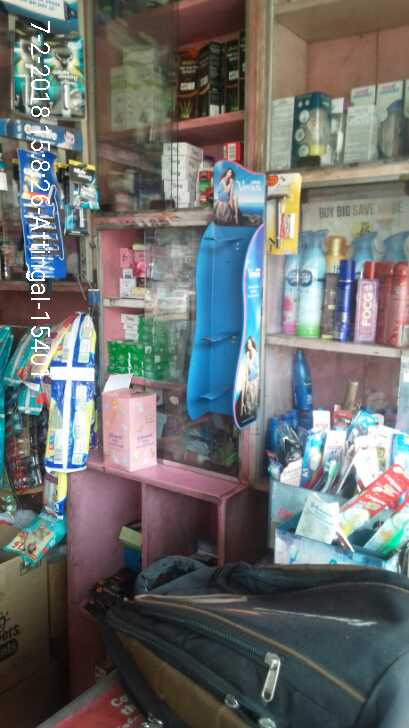beauty: (51, 31, 92, 117), (65, 160, 103, 207)
home: (298, 227, 327, 341), (279, 249, 297, 331)
